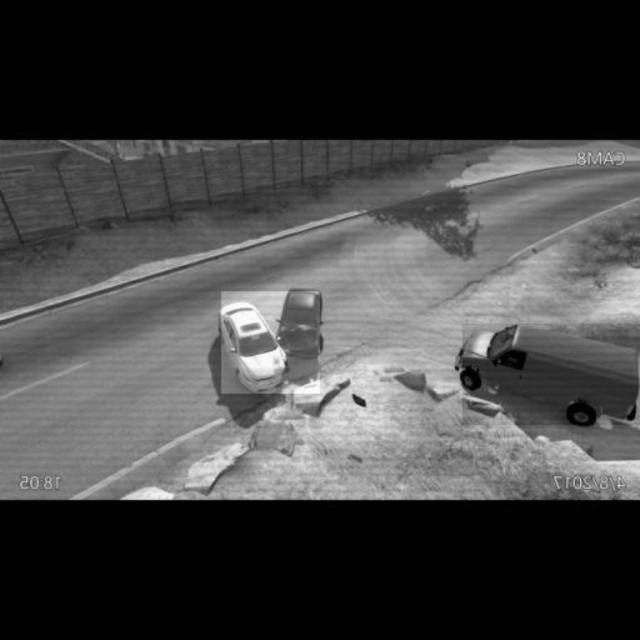accident: (222, 292, 320, 394)
vehicle: (463, 324, 640, 425)
